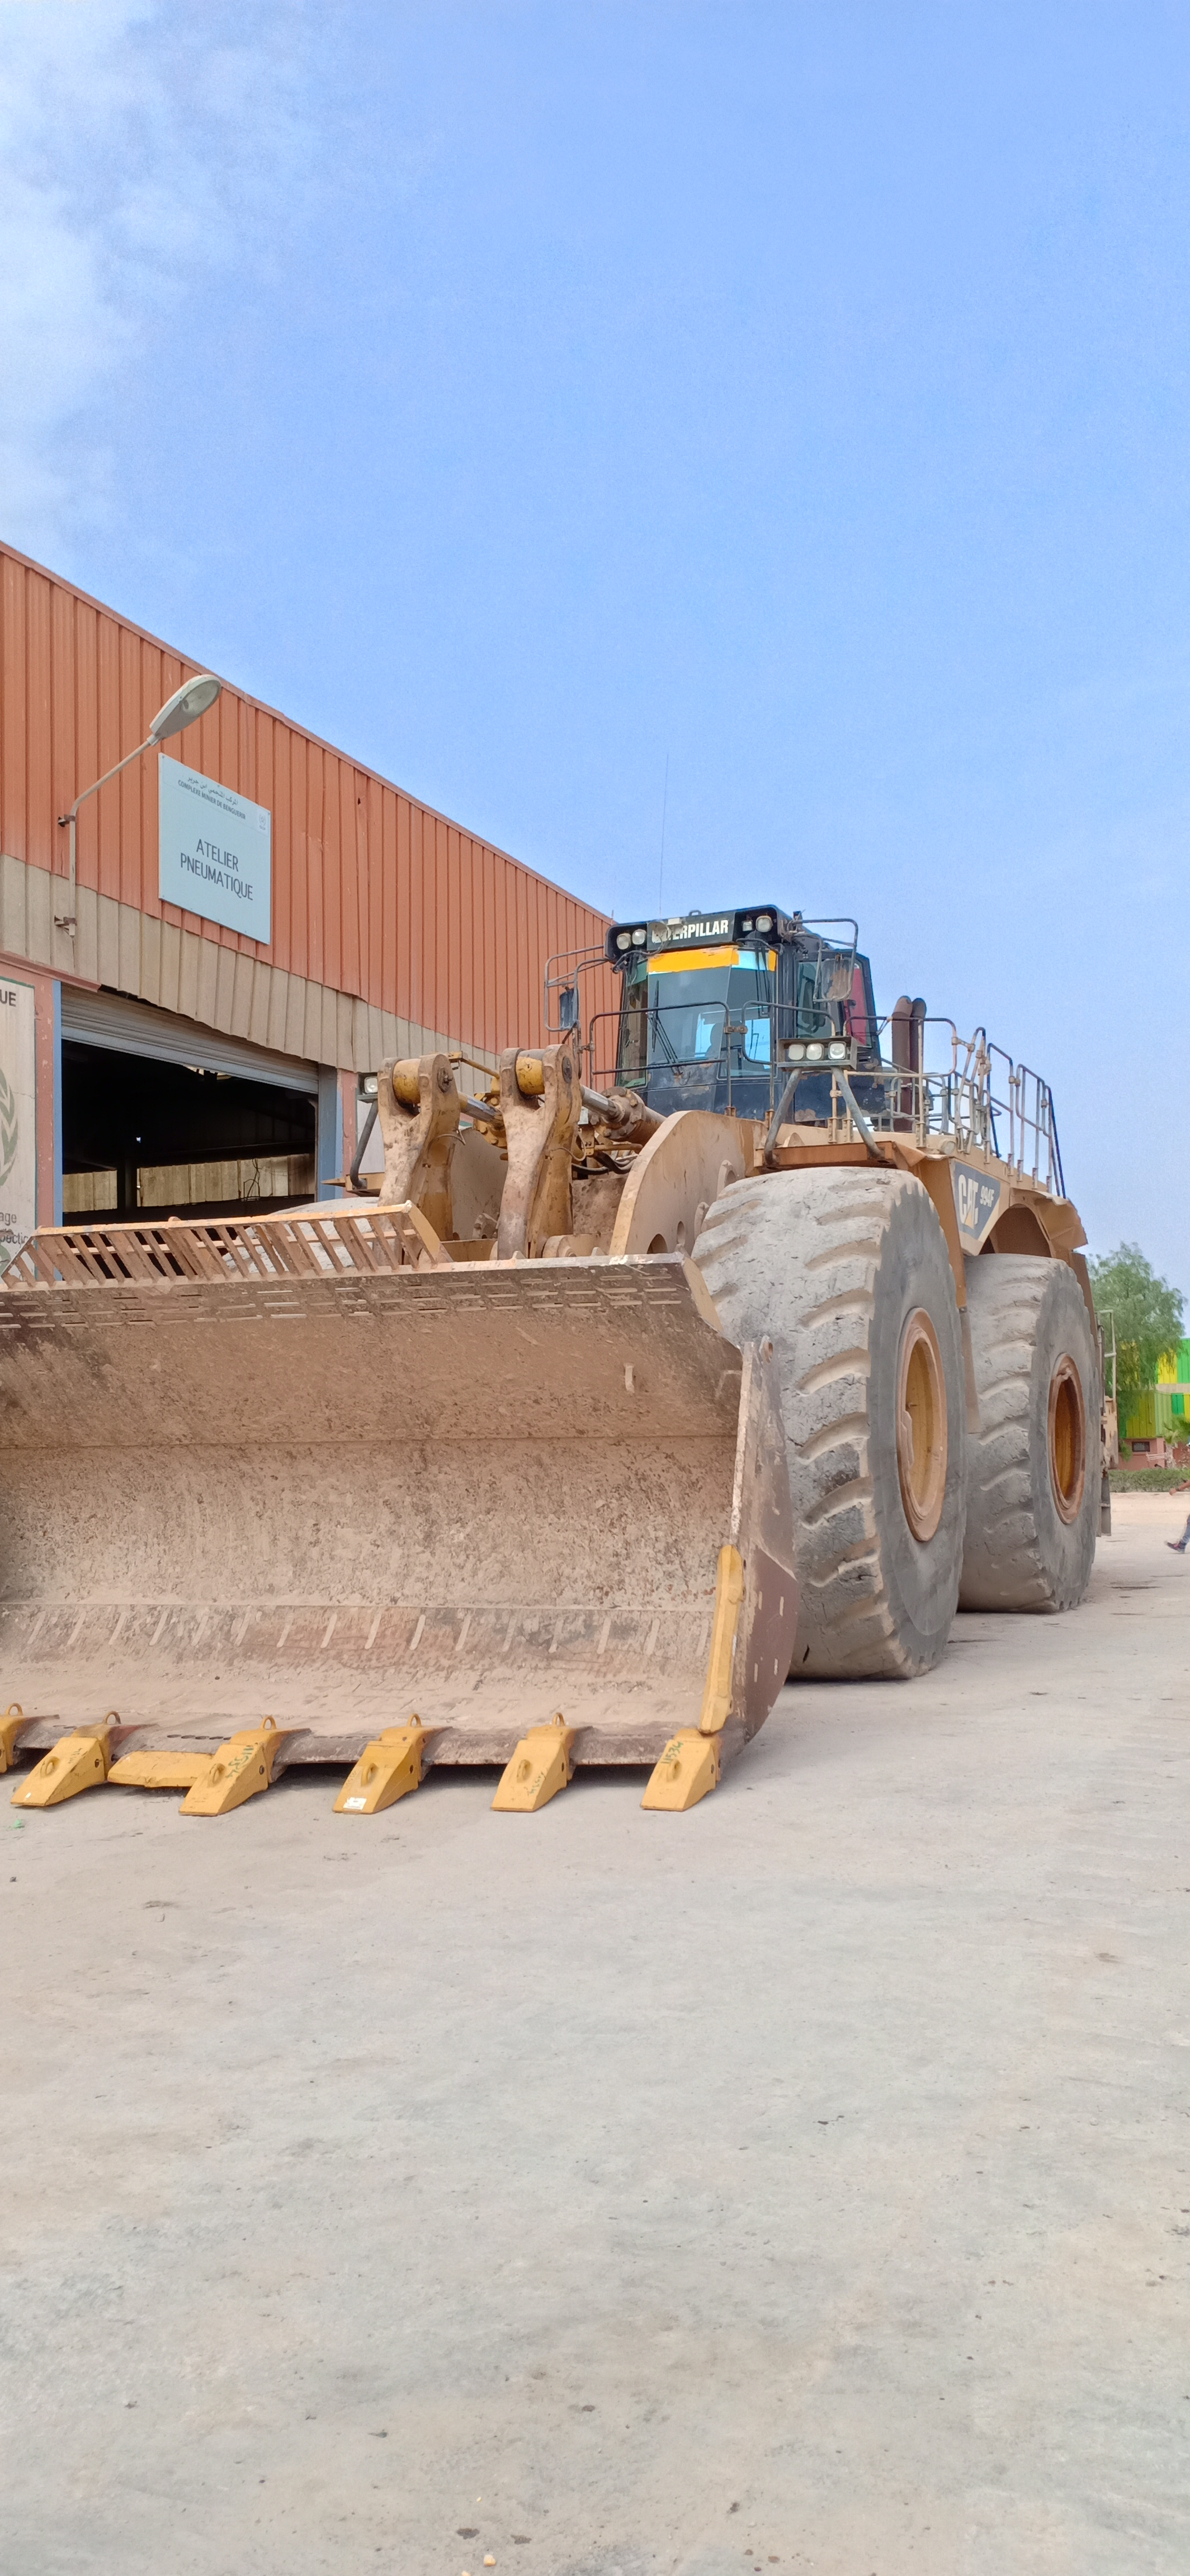chargeuse: (0, 871, 1137, 1840)
